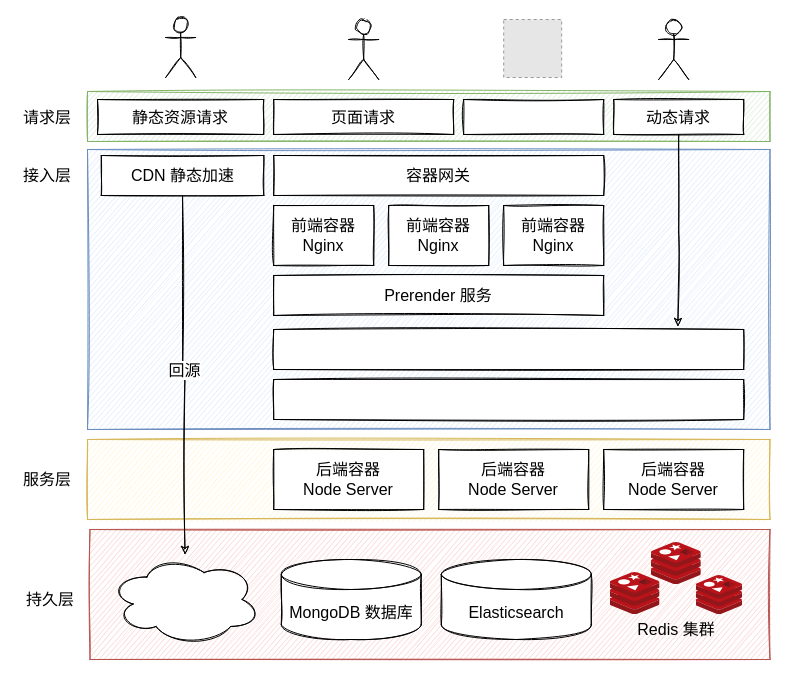
Some shapes in this 787 by 677 pixel diagram are drawn without their labels. Grey dashed boxes stand in for pictures. Each missing label, with the centre of its shape:
ECDN 全站加速: the point at 508,349
云托管网关: the point at 508,399
对象存储: the point at 184,599
搜索蜘蛛请求: the point at 533,116
